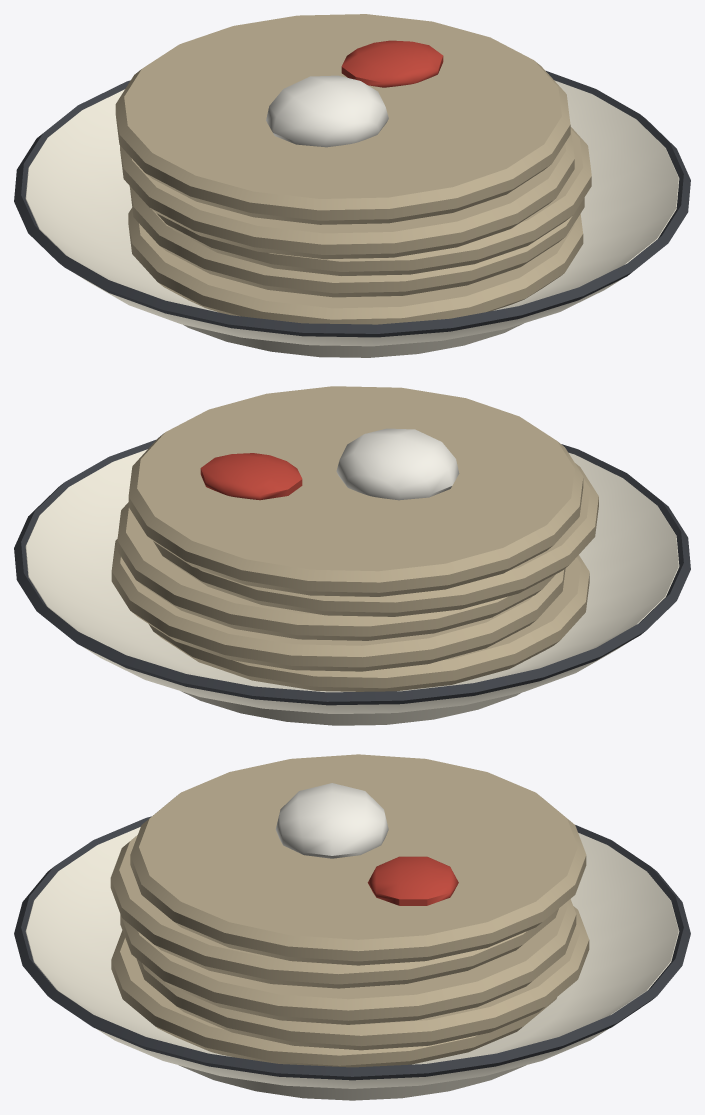
Rendered from cook_pancake.glb.
3 renders of one model, top to bottom at view 1: azimuth 30°, elevation 25°; view 2: azimuth 150°, elevation 25°; view 3: azimuth 270°, elevation 25°, orthographic.
Parts seen in each view (by area): view 1: body; view 2: body; view 3: body.
Part boxes in pixels (box(x1,y1,x2,y2)): body: box(14, 14, 690, 357); body: box(14, 386, 690, 725); body: box(14, 754, 690, 1100).
Size of the model in its own units: 0.0668 by 0.0214 by 0.0668.
